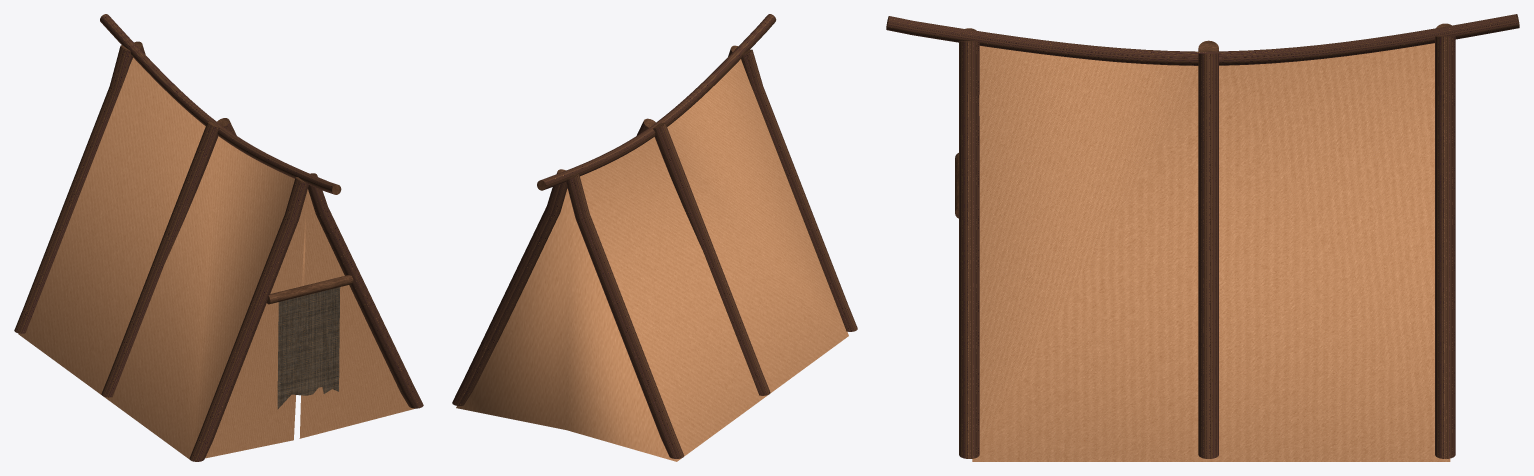
3 renders of one model, left to right at view 1: azimuth 30°, elevation 25°; view 2: azimuth 150°, elevation 25°; view 3: azimuth 270°, elevation 25°, orthographic. The views are drawn at different scales.
Parts seen in each view (by area): view 1: pPlane1, pasted__pasted__pCylinder2 (×2), pPlane2, pasted__pCylinder2, pCylinder1, pCylinder2; view 2: pPlane1, pasted__pCylinder2, pasted__pasted__pCylinder2 (×2), pCylinder1; view 3: pPlane1, pasted__pasted__pCylinder2 (×2), pCylinder1, pasted__pCylinder2.
Part boxes in pixels (bbox=[...]): pPlane1: bbox=[18, 57, 414, 459]; pasted__pasted__pCylinder2 (×2): bbox=[101, 118, 423, 461]; pPlane2: bbox=[277, 287, 340, 409]; pasted__pCylinder2: bbox=[14, 41, 145, 333]; pCylinder1: bbox=[100, 14, 341, 194]; pCylinder2: bbox=[267, 275, 353, 304]; pPlane1: bbox=[456, 59, 848, 461]; pasted__pCylinder2: bbox=[452, 169, 684, 458]; pasted__pasted__pCylinder2 (×2): bbox=[636, 45, 857, 395]; pCylinder1: bbox=[537, 14, 776, 190]; pPlane1: bbox=[972, 43, 1450, 461]; pasted__pasted__pCylinder2 (×2): bbox=[959, 28, 1218, 458]; pCylinder1: bbox=[886, 14, 1519, 65]; pasted__pCylinder2: bbox=[1435, 23, 1455, 458].
Size of the model in its own units: 9.47 by 10.71 by 16.47.
Materials: 5 (5 with a texture image).
